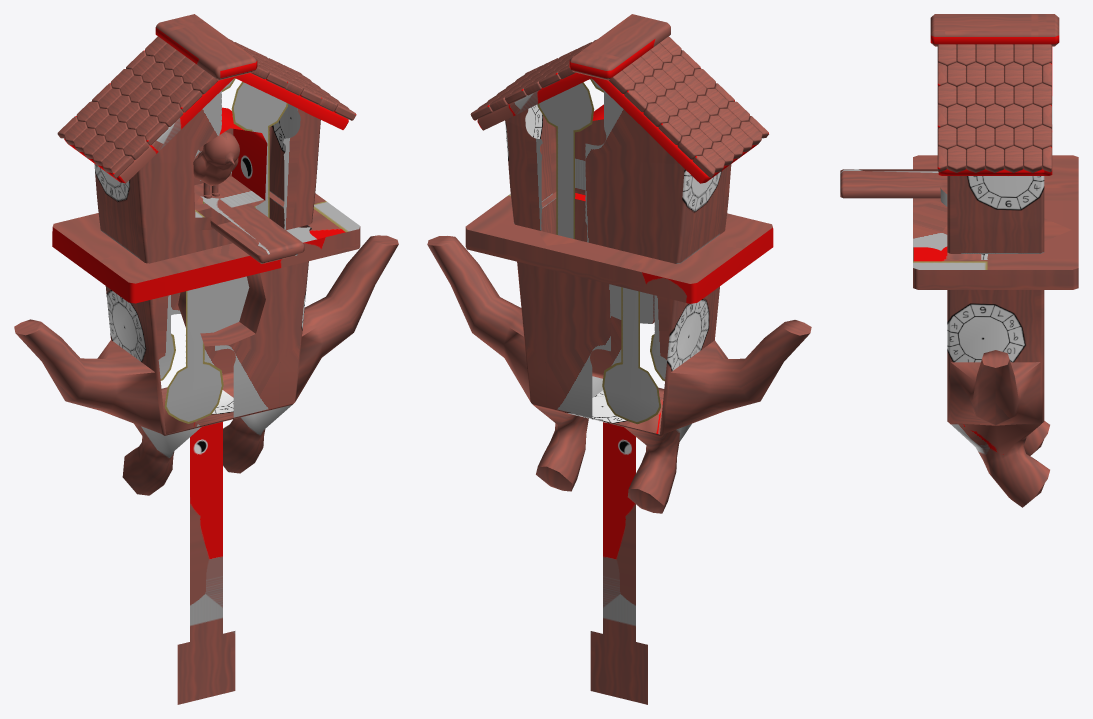
Rendered from SM_KooKoo_Clock_05.fbx.
The picture shows the model from 3 angles, left to right: view 1: azimuth 30°, elevation 25°; view 2: azimuth 150°, elevation 25°; view 3: azimuth 270°, elevation 25°; orthographic projection.
Parts seen in each view (by area): view 1: KooKoo_Clock_combined_Bird_04; view 2: KooKoo_Clock_combined_Bird_04; view 3: KooKoo_Clock_combined_Bird_04.
Part boxes in pixels (<box>): KooKoo_Clock_combined_Bird_04: <box>14,14,398,704</box>; KooKoo_Clock_combined_Bird_04: <box>427,14,811,704</box>; KooKoo_Clock_combined_Bird_04: <box>840,14,1078,507</box>.
Size of the model in its own units: 665 by 1095 by 354.
Materials: 1 (1 with a texture image).
